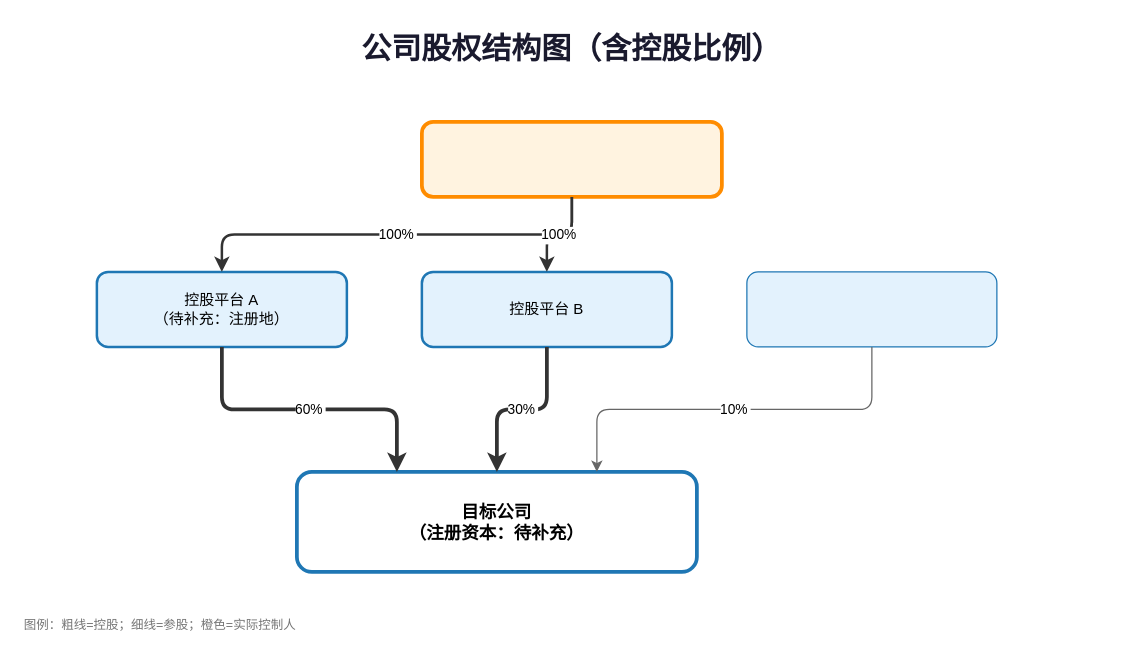
The diagram is 1143 pixels wide and 655 high, and some of its shapes have lost their labels. Each missing label, with the box of its shape:
实际控制人（待补充：身份证号）: (419, 119, 723, 198)
小股东（员工持股）: (746, 271, 997, 347)
